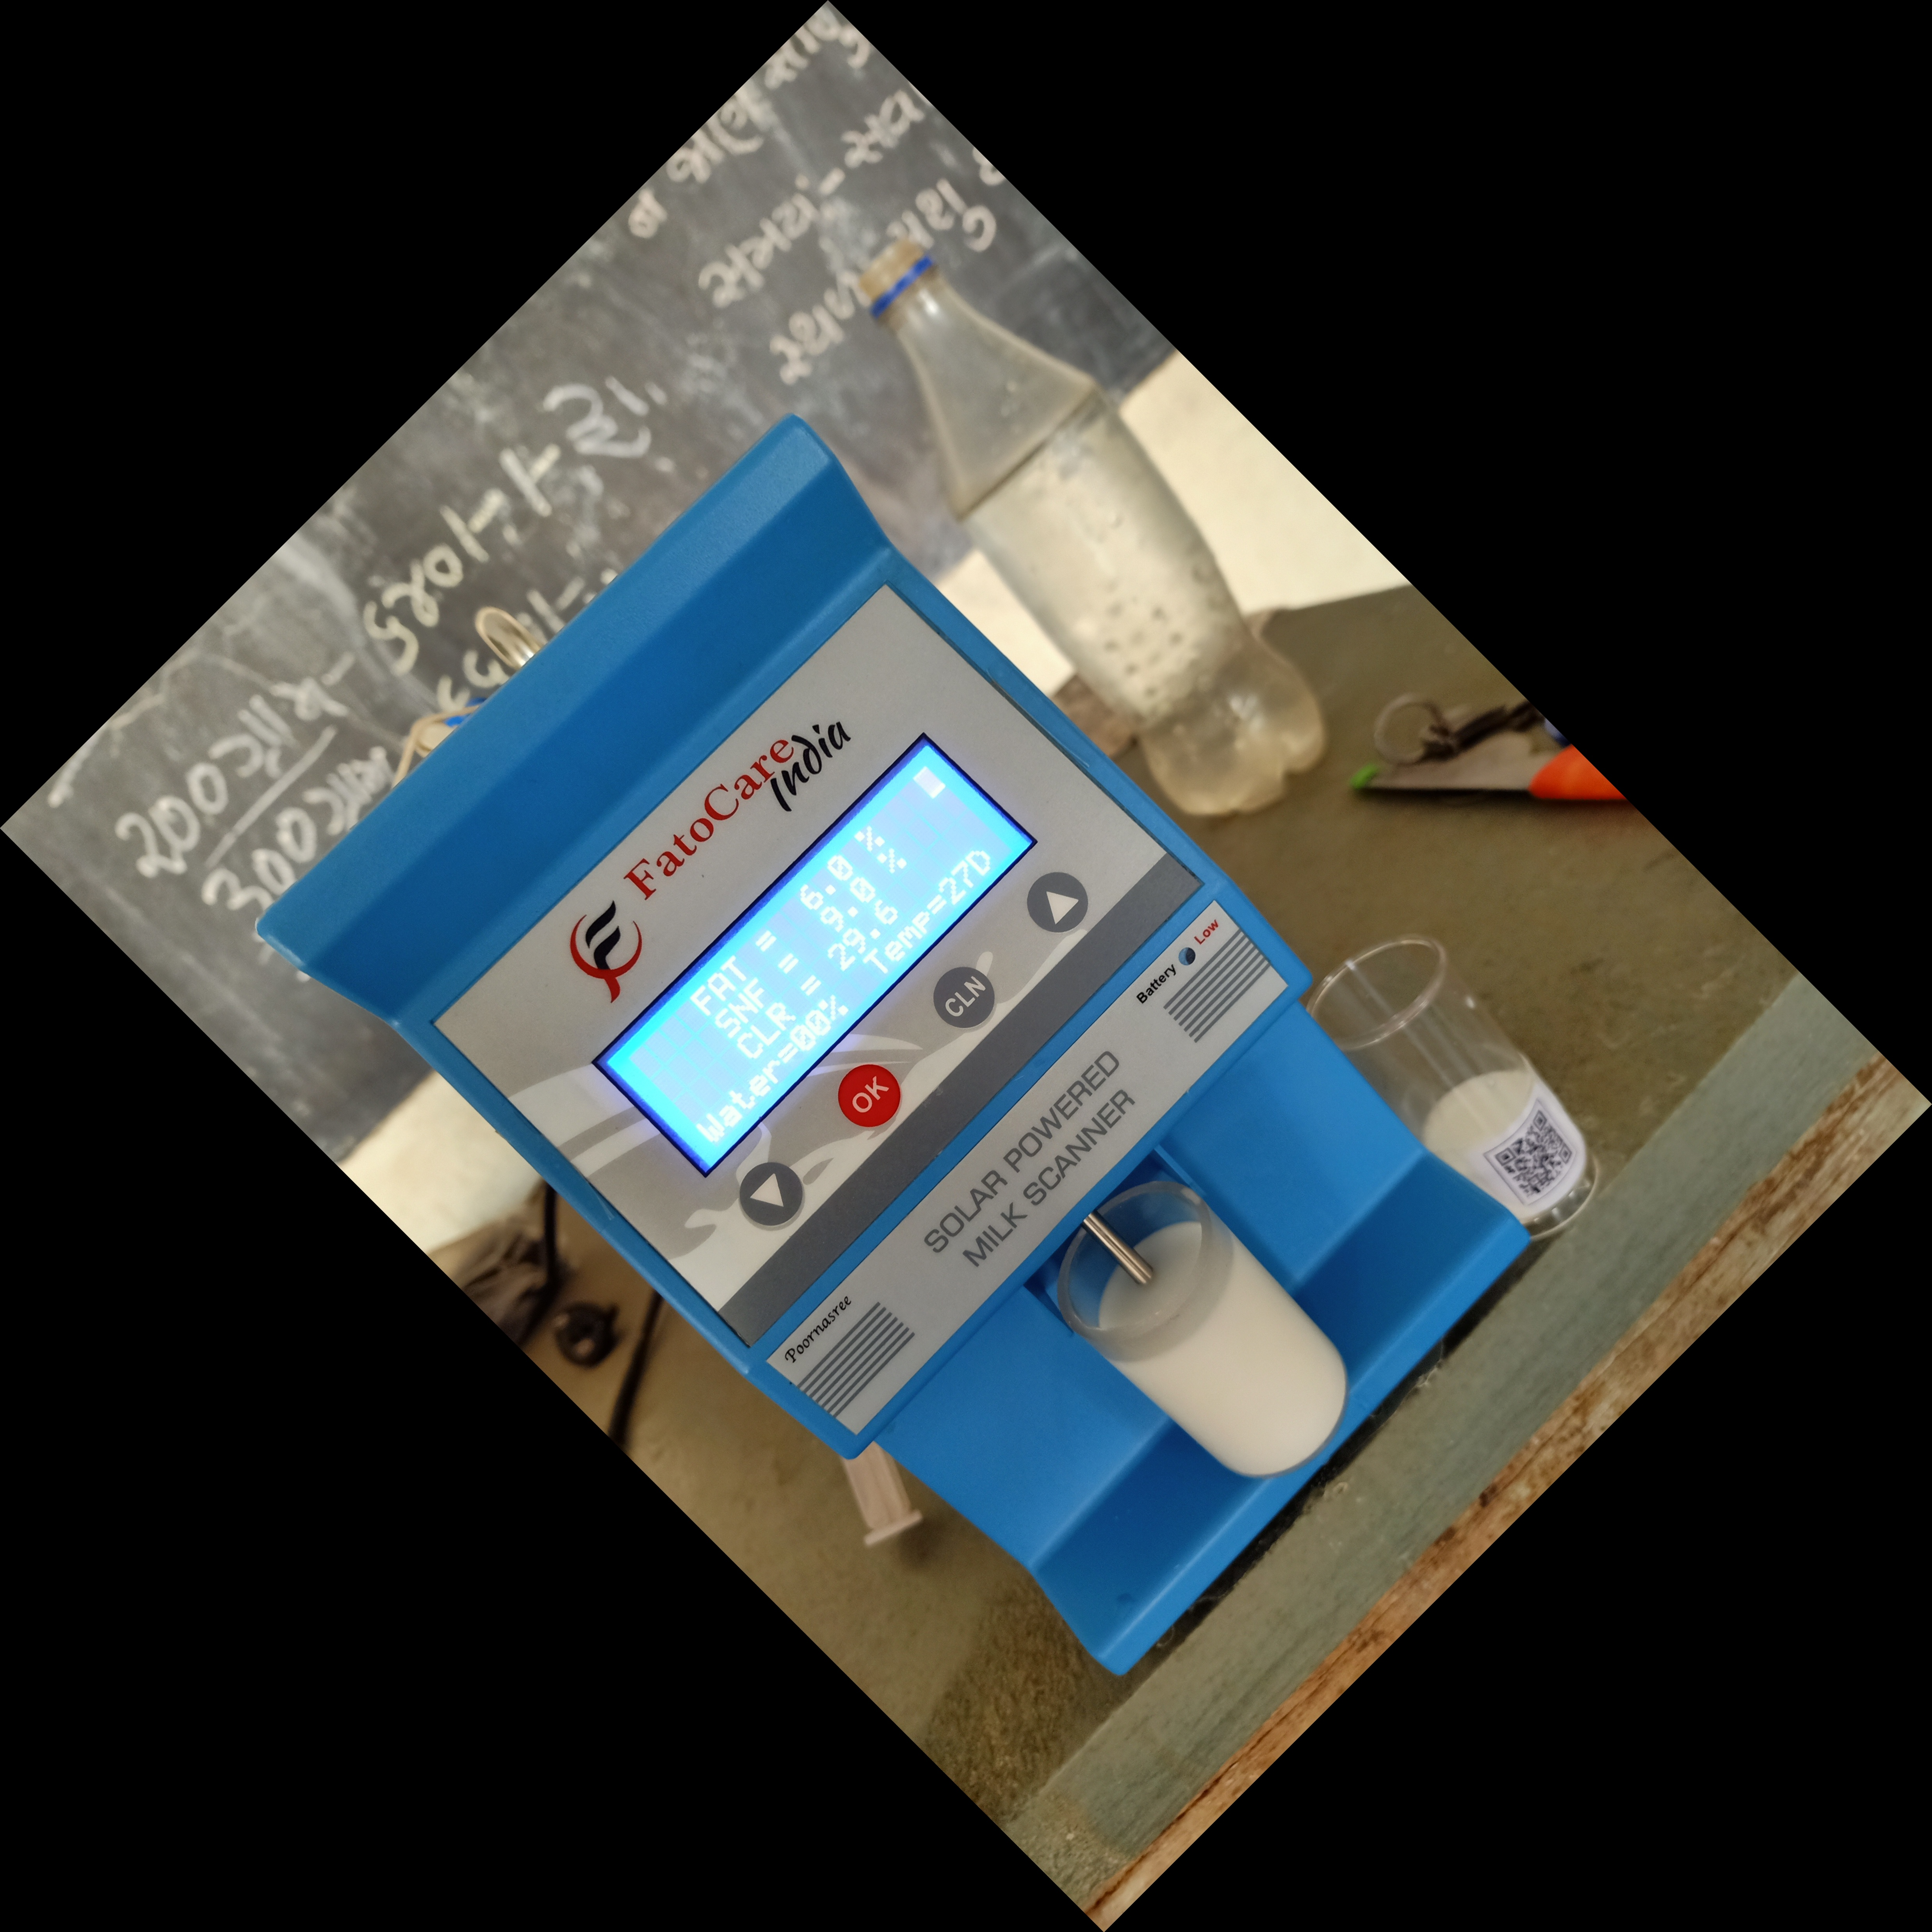lcd: (577, 699, 1063, 1191)
qr: (1476, 1090, 1596, 1233)
